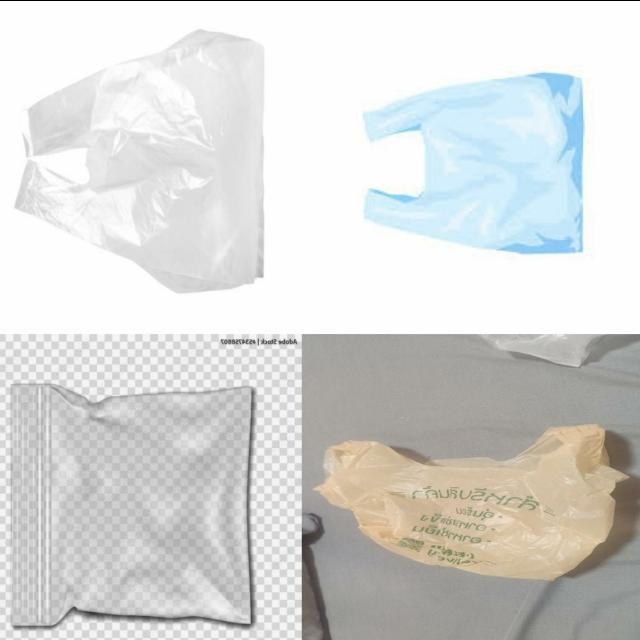plastik: (15, 29, 263, 292), (11, 384, 251, 625), (316, 424, 627, 579), (363, 73, 583, 252)
